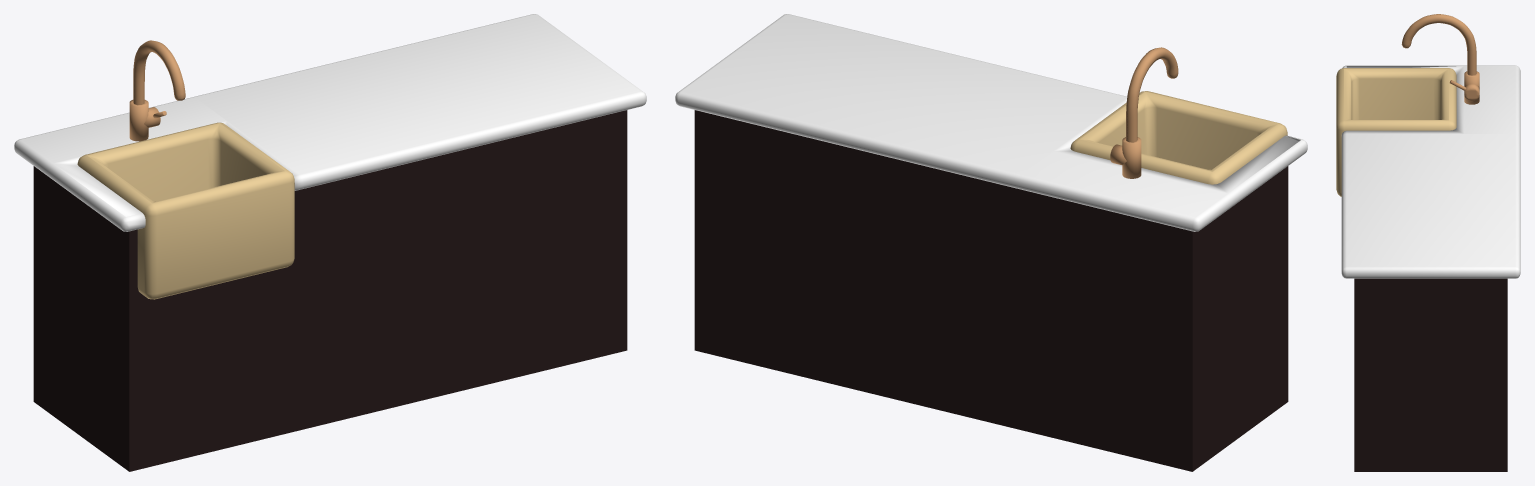
The picture shows the model from 3 angles, left to right: view 1: azimuth 30°, elevation 25°; view 2: azimuth 150°, elevation 25°; view 3: azimuth 270°, elevation 25°; orthographic projection. The views are drawn at different scales.
Parts seen in each view (by area): view 1: Frame, Bench, Sink; view 2: Frame, Bench, Sink; view 3: Bench, Frame, Sink.
Boxes of the visible parts, x1=… form: Frame: x1=33, y1=110, x2=627, y2=471; Bench: x1=14, y1=14, x2=646, y2=231; Sink: x1=77, y1=40, x2=294, y2=299; Frame: x1=694, y1=110, x2=1288, y2=471; Bench: x1=675, y1=14, x2=1307, y2=231; Sink: x1=1070, y1=47, x2=1287, y2=184; Bench: x1=1341, y1=65, x2=1520, y2=278; Frame: x1=1354, y1=278, x2=1507, y2=471; Sink: x1=1336, y1=14, x2=1479, y2=196.
Size of what is drawn, in the model's own units: 1.9 by 1.28 by 0.72.
